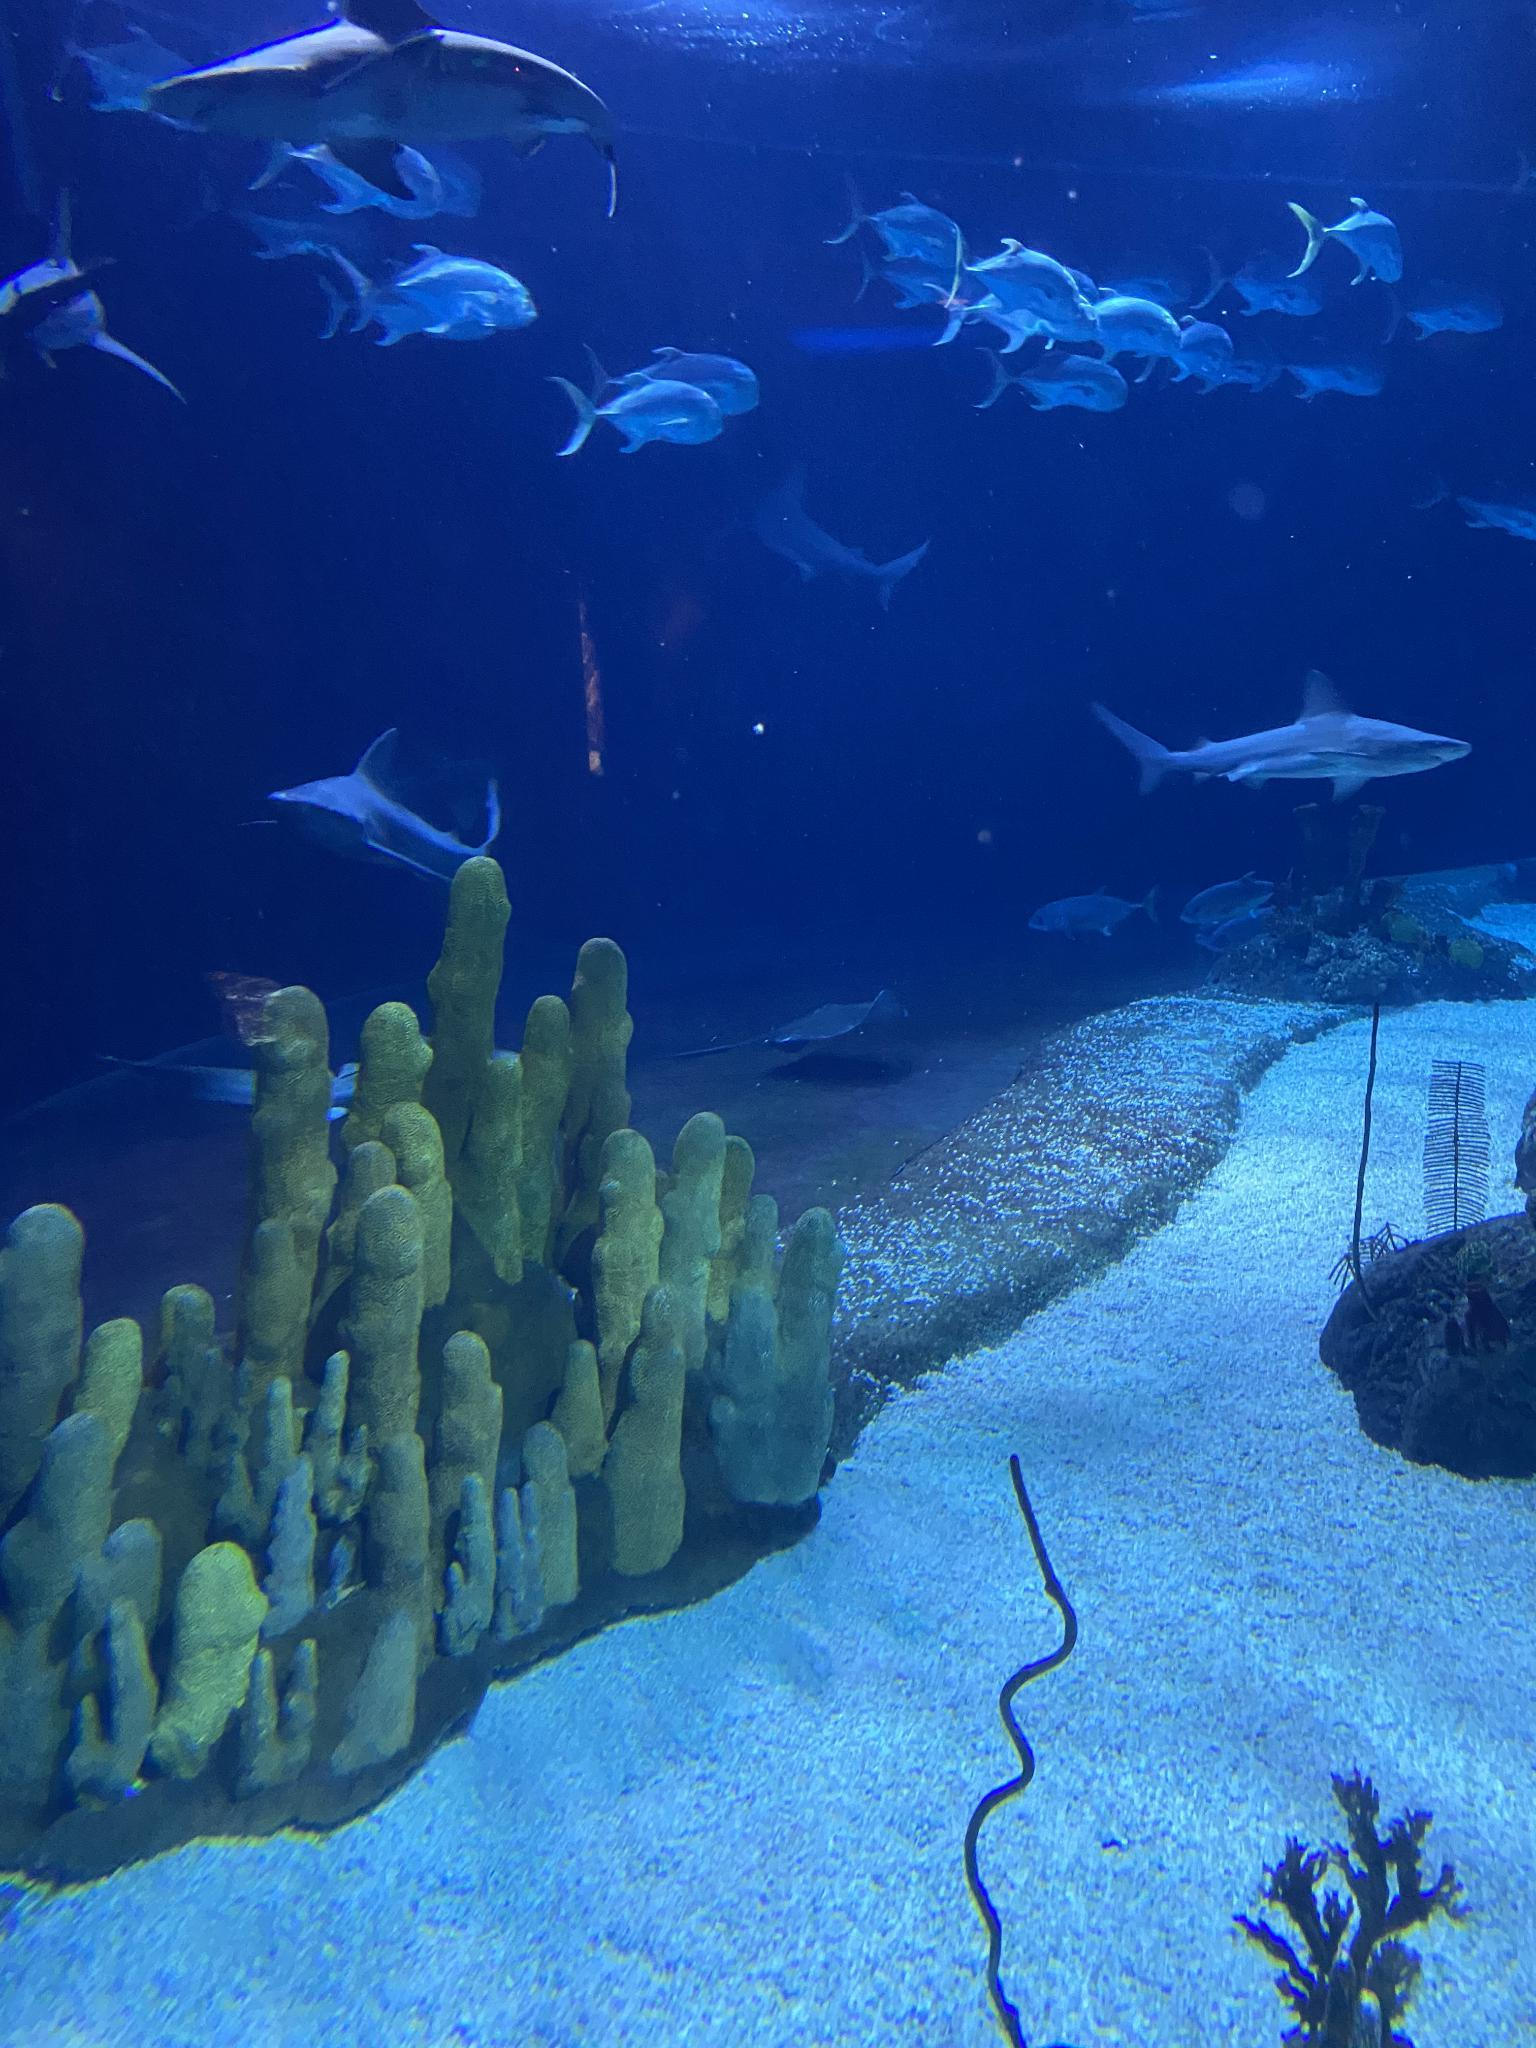fish: (248, 119, 444, 226), (326, 256, 539, 332), (820, 169, 970, 269), (544, 373, 723, 455), (581, 342, 758, 418), (920, 282, 1104, 355), (311, 274, 495, 347), (973, 347, 1128, 419), (1044, 287, 1183, 368), (1284, 197, 1405, 285), (1242, 332, 1384, 406), (1412, 464, 1536, 545), (945, 256, 1081, 324), (1028, 880, 1162, 945), (1375, 279, 1504, 345), (1187, 255, 1323, 316), (850, 247, 976, 310), (1134, 314, 1234, 384), (1179, 871, 1291, 921)
shark: (147, 3, 623, 223), (1081, 666, 1470, 806), (236, 727, 499, 892), (2, 185, 186, 405), (736, 460, 925, 614)
stingray: (763, 985, 907, 1053)
